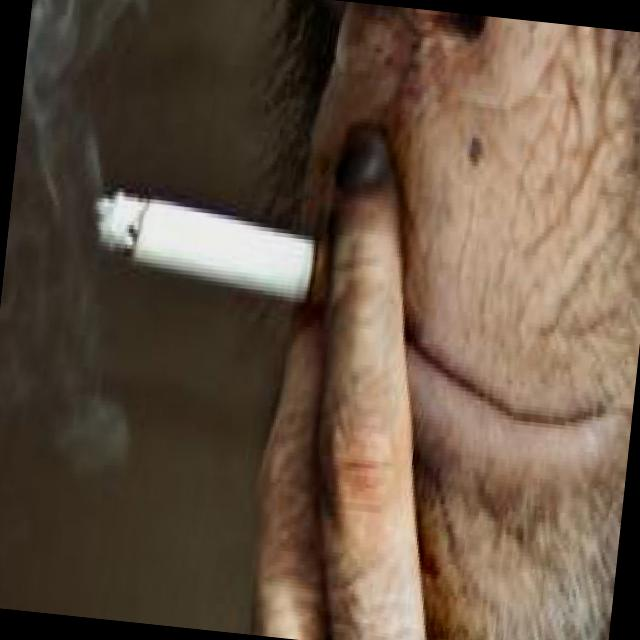smoke: (82, 183, 352, 334)
